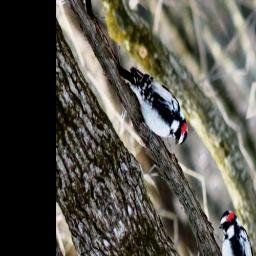Woodpecker: (110, 27, 194, 171)
